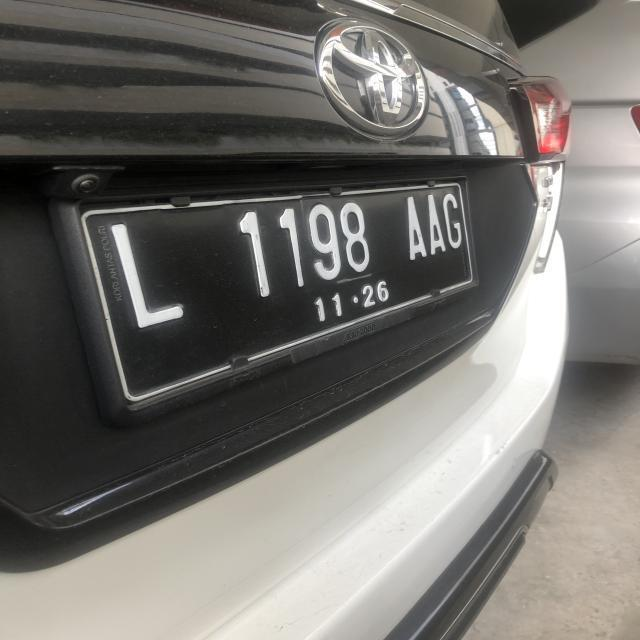1: (239, 204, 273, 300), (276, 204, 308, 288)
8: (338, 198, 371, 275)
9: (306, 200, 343, 282)
A: (397, 196, 430, 260), (422, 193, 450, 256)
G: (444, 194, 462, 256)
L: (105, 214, 186, 334)
